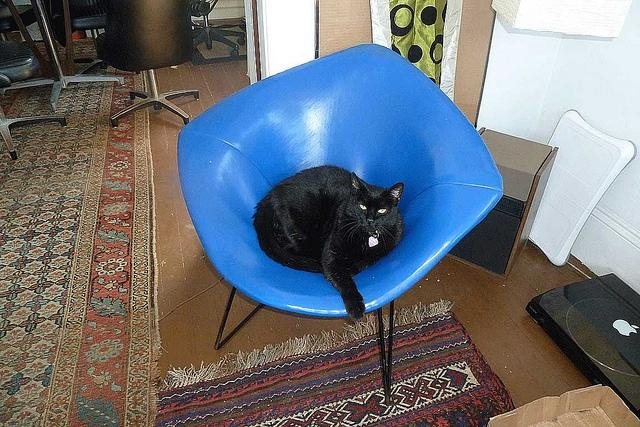apple: (613, 320, 639, 336)
